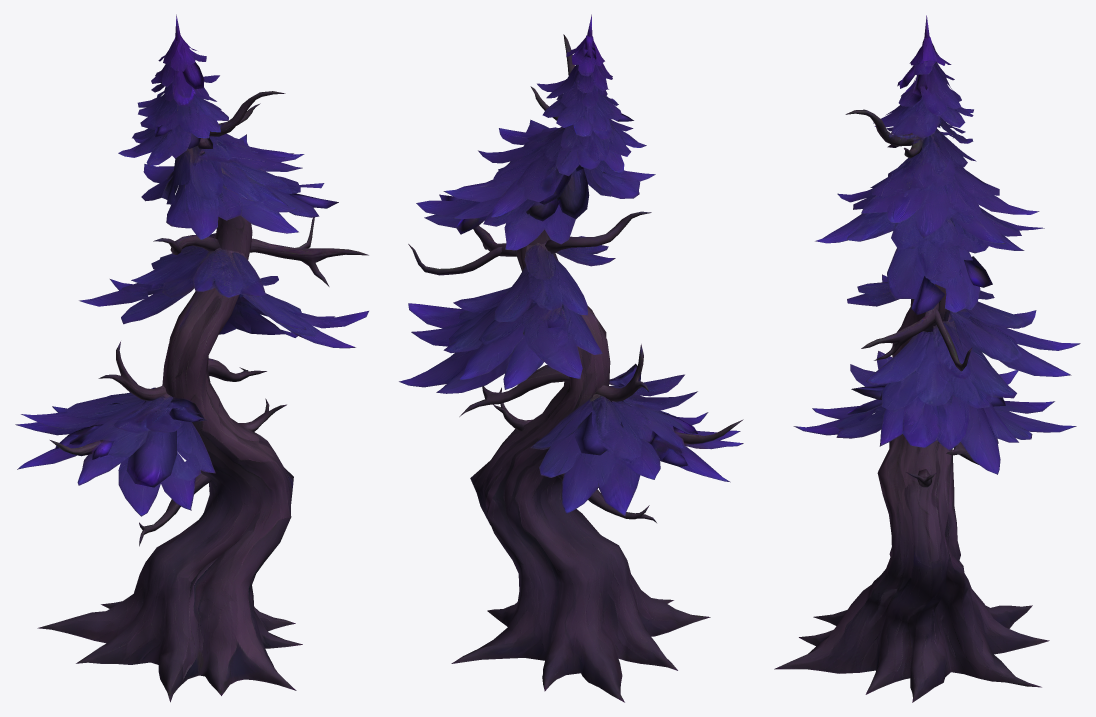
Rendered from Meshy_AI_Twisted_Indigo_Tree_1016203410_texture.fbx.
3 renders of one model, left to right at view 1: azimuth 30°, elevation 25°; view 2: azimuth 150°, elevation 25°; view 3: azimuth 270°, elevation 25°, orthographic.
Visible parts, largest first — view 1: mesh_node; view 2: mesh_node; view 3: mesh_node.
Part boxes in pixels (x1,y1,x2,y2): mesh_node: (15,14,368,702); mesh_node: (399,14,743,702); mesh_node: (774,15,1080,702).
Bounding box in the file's own units: 56.05 × 100 × 44.04.
Materials: 1 (1 with a texture image).
